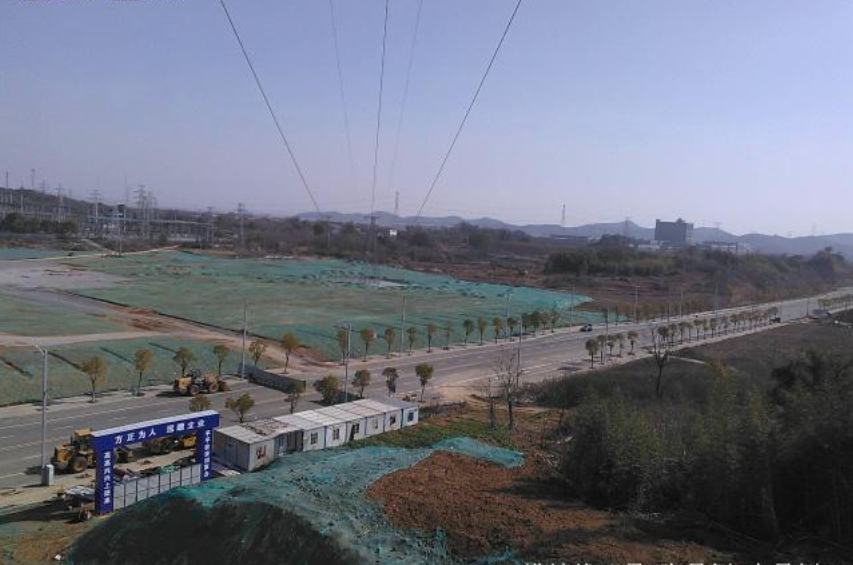绿膜: (56, 249, 634, 362), (54, 442, 433, 565), (0, 332, 282, 409), (0, 290, 128, 338), (429, 524, 533, 564), (432, 434, 527, 470), (0, 243, 105, 261)
